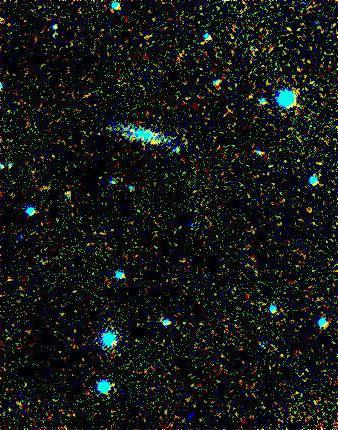star: (143, 129, 173, 159)
